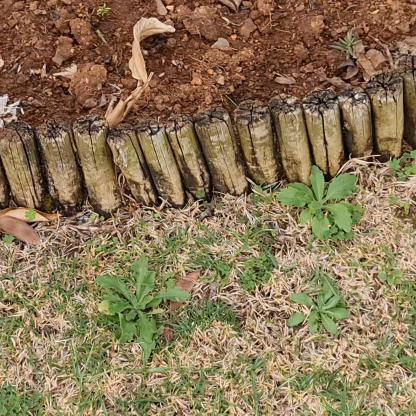Weeds: (94, 256, 191, 365), (277, 165, 361, 246), (288, 283, 349, 338), (378, 268, 402, 286)
